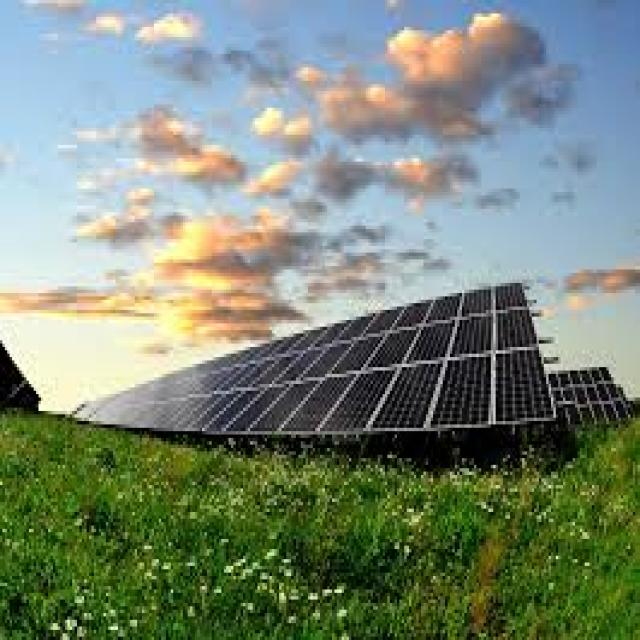clean-solar-panel: (79, 283, 556, 434)
